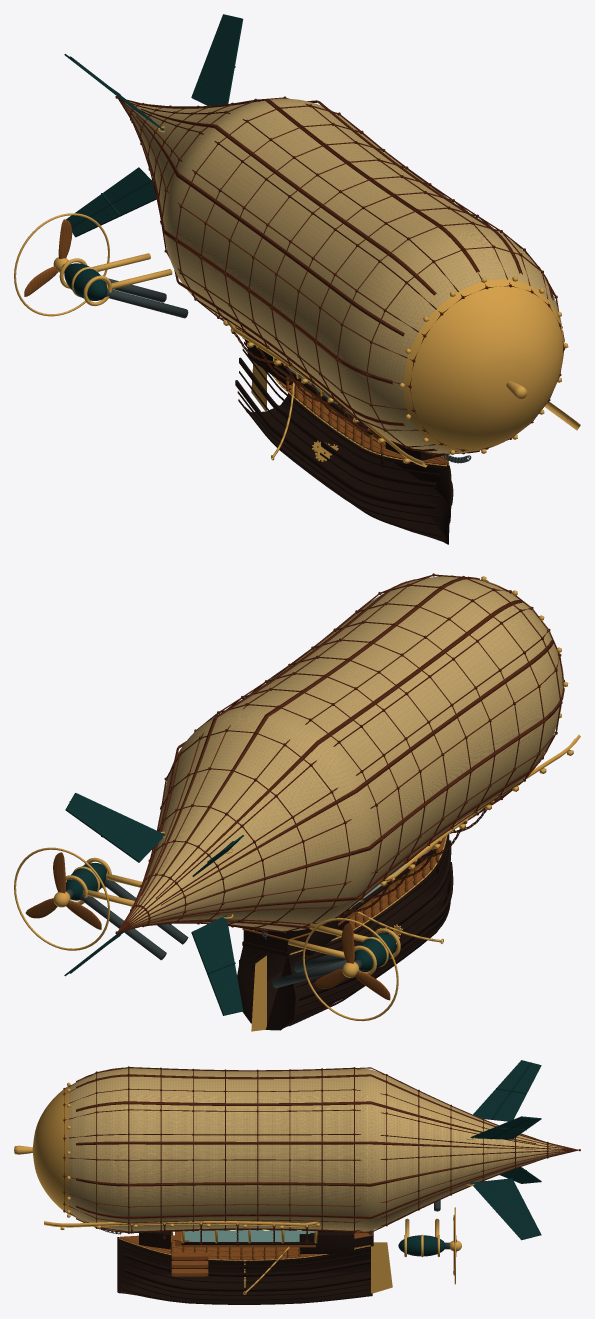
Rendered from zeppelin.glb.
The picture shows the model from 3 angles, top to bottom: view 1: azimuth 30°, elevation 25°; view 2: azimuth 150°, elevation 25°; view 3: azimuth 270°, elevation 25°; orthographic projection. The views are drawn at different scales.
Visible parts, largest first — view 1: GEO-airship-cream, GEO-airship-brass, GEO-airship-wood, GEO-airship-darkwood, GEO-airship-teal, GEO-airship-oak, GEO-airship-iron, GEO-airship-propeller-L-oak; view 2: GEO-airship-cream, GEO-airship-wood, GEO-airship-darkwood, GEO-airship-teal, GEO-airship-brass, GEO-airship-iron, GEO-airship-oak, GEO-airship-propeller-L-oak, GEO-airship-propeller-R-oak; view 3: GEO-airship-cream, GEO-airship-wood, GEO-airship-darkwood, GEO-airship-brass, GEO-airship-teal, GEO-airship-oak, GEO-airship-glass.
Boxes of the visible parts, left/top/right/bottom form: GEO-airship-cream: left=123, top=98, right=561, bottom=453; GEO-airship-brass: left=14, top=126, right=580, bottom=467; GEO-airship-wood: left=115, top=96, right=564, bottom=456; GEO-airship-darkwood: left=235, top=335, right=453, bottom=544; GEO-airship-teal: left=64, top=14, right=243, bottom=300; GEO-airship-oak: left=274, top=365, right=448, bottom=465; GEO-airship-iron: left=62, top=264, right=471, bottom=463; GEO-airship-propeller-L-oak: left=24, top=219, right=72, bottom=296; GEO-airship-cream: left=126, top=576, right=562, bottom=930; GEO-airship-wood: left=115, top=573, right=564, bottom=934; GEO-airship-darkwood: left=237, top=834, right=453, bottom=1030; GEO-airship-teal: left=64, top=793, right=395, bottom=1015; GEO-airship-brass: left=14, top=575, right=580, bottom=1031; GEO-airship-iron: left=65, top=879, right=362, bottom=988; GEO-airship-oak: left=242, top=836, right=445, bottom=953; GEO-airship-propeller-L-oak: left=314, top=922, right=390, bottom=1000; GEO-airship-propeller-R-oak: left=25, top=852, right=101, bottom=929; GEO-airship-cream: left=68, top=1068, right=565, bottom=1231; GEO-airship-wood: left=63, top=1066, right=580, bottom=1245; GEO-airship-darkwood: left=117, top=1230, right=373, bottom=1304; GEO-airship-brass: left=14, top=1082, right=474, bottom=1294; GEO-airship-teal: left=398, top=1060, right=541, bottom=1256; GEO-airship-oak: left=120, top=1230, right=372, bottom=1276; GEO-airship-glass: left=184, top=1230, right=314, bottom=1241.
Size of the model in its own units: 9.33 by 7.5 by 17.08.
Materials: 10 (5 with a texture image).
